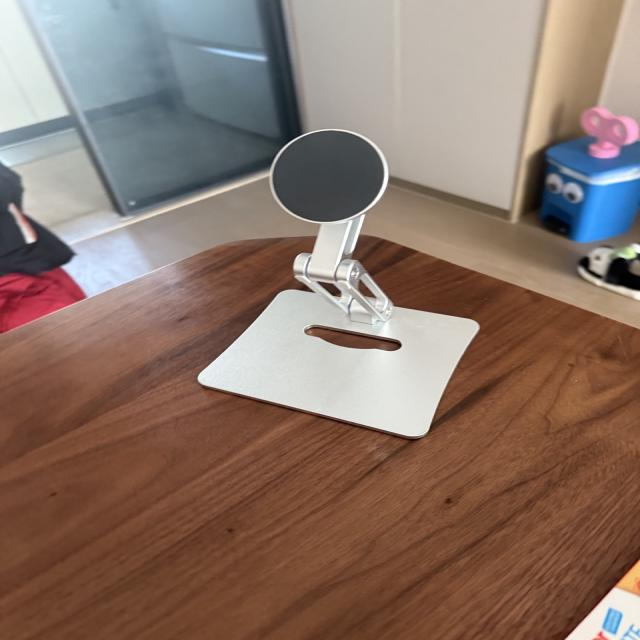phone holder: (180, 121, 483, 445)
